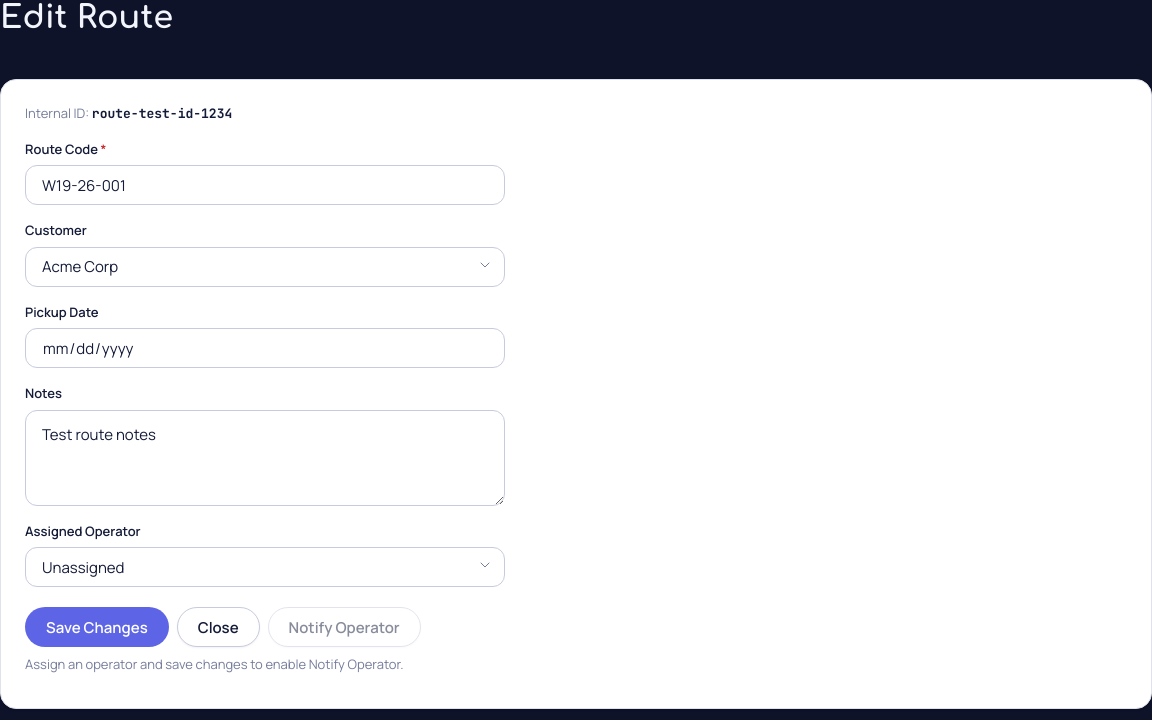
Scenario: Administrator Route Edit Page › enables Notify Operator after assigning a previously-unassigned route and saving, without navigating away (#267)
Expected: the field labelled "Route Code *" is shown, [25,165,505,205]
Expected: the button "Notify Operator" is disabled, [268,607,421,647]
Select "Operator One" in the dropdown labelled "Assigned Operator" at (265, 567), box [25,547,505,587]
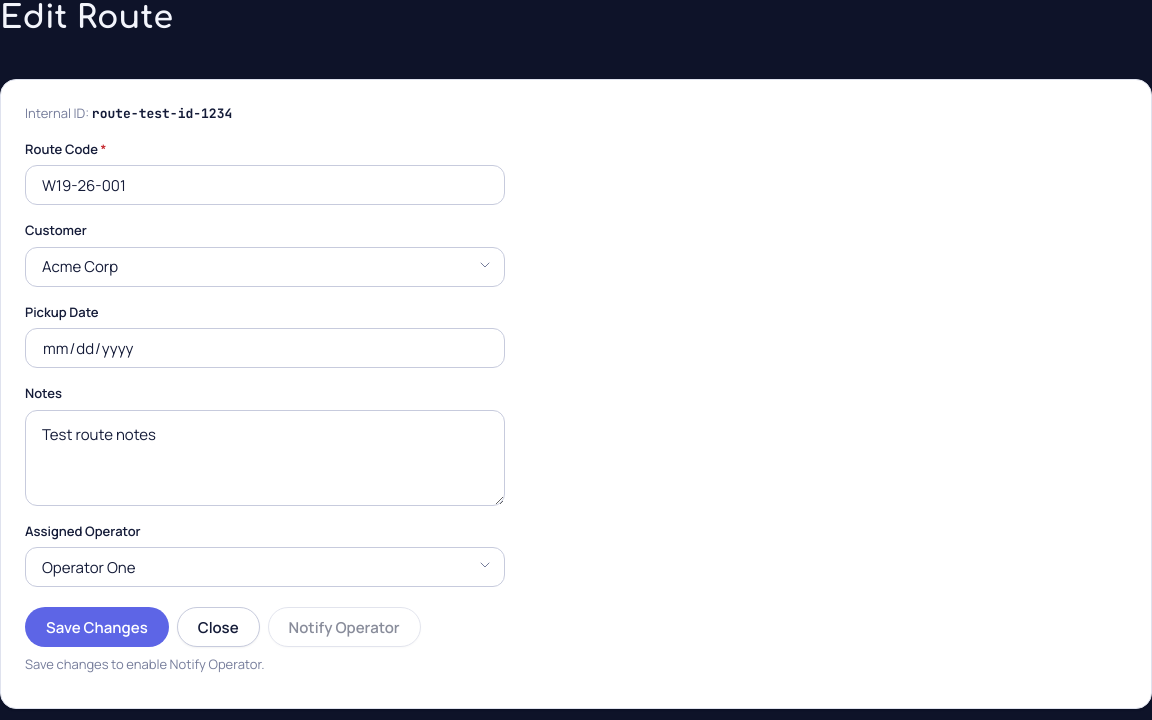
Click the button "Save Changes" at (97, 627), box [25,607,169,647]
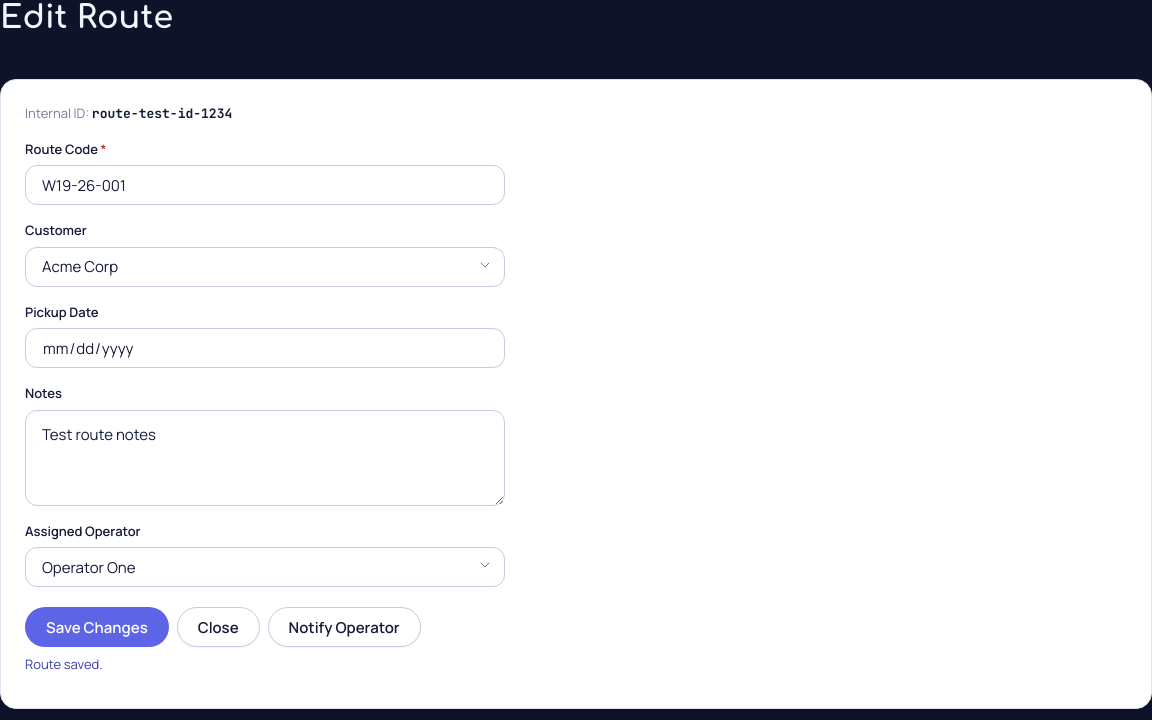
Now the button "Notify Operator" is enabled
Click the button "Notify Operator" at (344, 627), box [268,607,421,647]
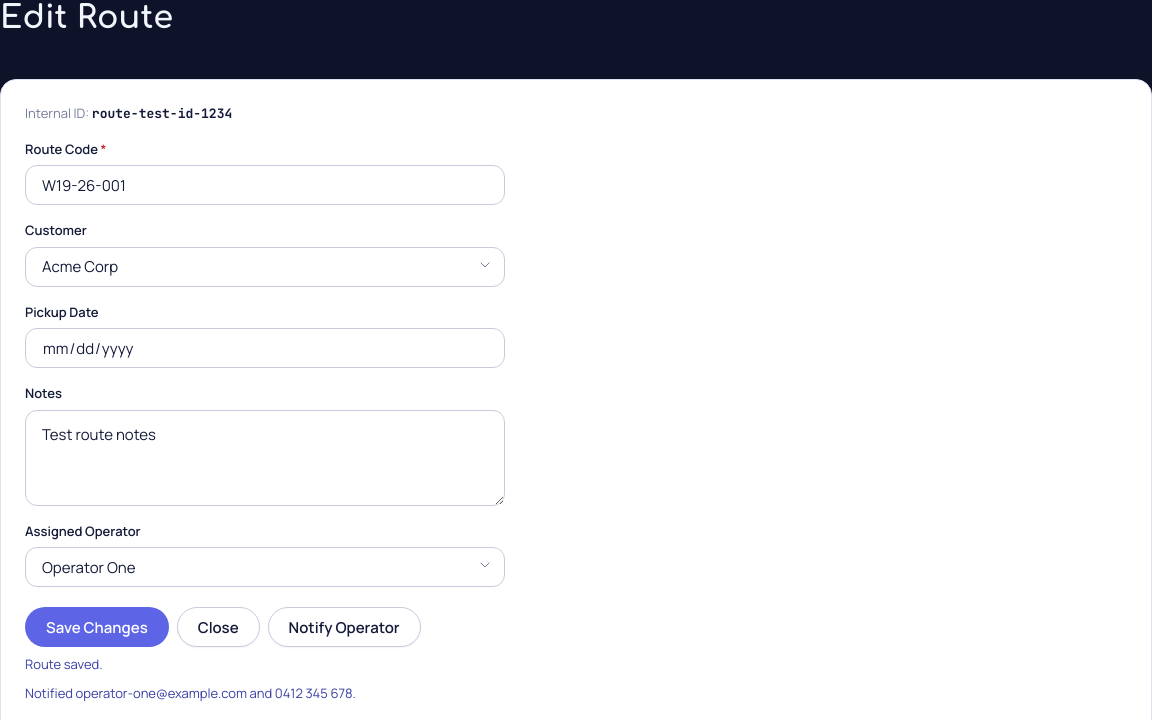
Now the text "Notified operator-one@example.com and 0412 345 678." is shown, box [25,684,356,702]
